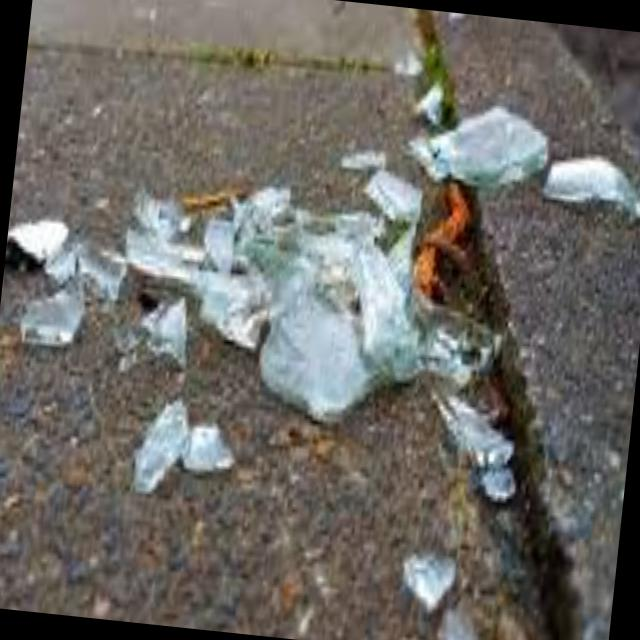PecahanKaca: (101, 133, 519, 442), (408, 172, 486, 307)
